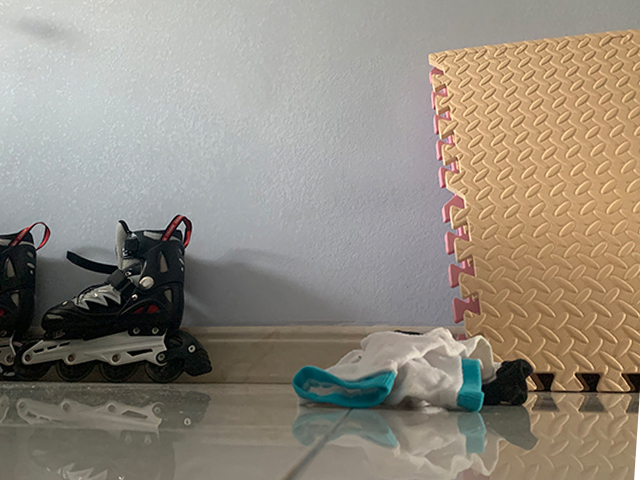socks: (292, 325, 534, 415)
